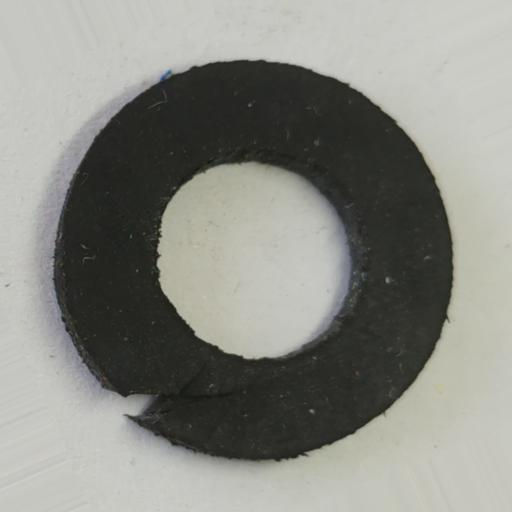defect: (118, 390, 233, 421)
